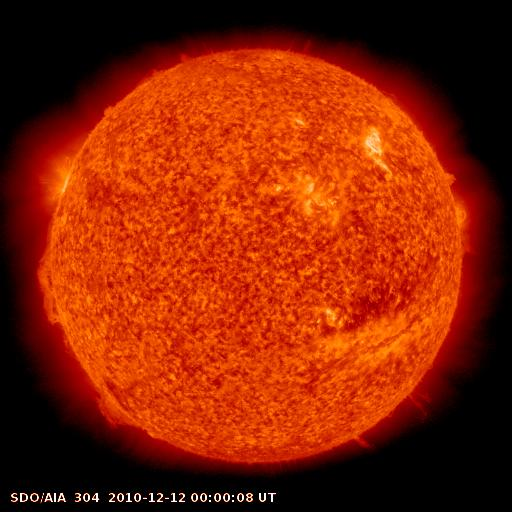prominence: (27, 240, 86, 330), (75, 369, 147, 437), (396, 377, 449, 423), (333, 421, 384, 459), (432, 156, 475, 198), (83, 95, 134, 123), (167, 39, 217, 67)
